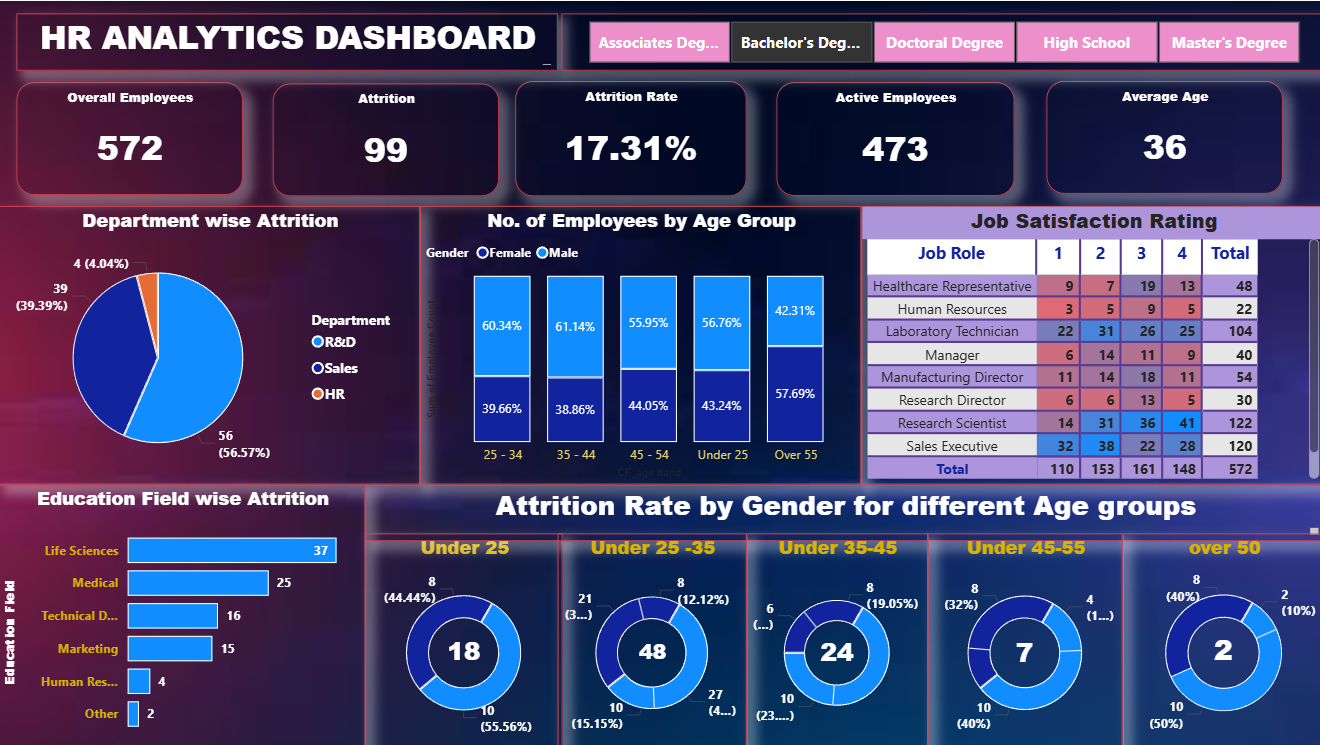

The page's visual inventory and layout, read from the dashboard file:
{"tool":"powerbi","page":{"name":"Page 1","canvas":[1280,720],"ordinal":0},"visuals":[{"type":"card","title":"Overall Employees","fields":{"Values":["Sum(Table_1.Employee Count)"]},"box":[16.9,78.4,218.4,108.6],"z":0},{"type":"card","title":"Attrition","fields":{"Values":["Sum(Table_1.Attrition Count)"]},"box":[264.2,79.6,218.4,108.6],"z":1000},{"type":"card","title":"Attrition Rate ","fields":{"Values":["Table_1.Attrition Rate"]},"box":[498.3,77.2,223.2,111],"z":2000},{"type":"card","title":"Active Employees","fields":{"Values":["Table_1.Active Employees"]},"box":[750.4,78.4,229.2,109.8],"z":3000},{"type":"card","title":"Average Age","fields":{"Values":["Avg(Table_1.Age)"]},"box":[1011,77.2,228,108.6],"z":4000},{"type":"pieChart","title":"Department wise Attrition","fields":{"Category":["Table_1.Department"],"Y":["Sum(Table_1.Attrition Count)"]},"box":[0,197.9,406.6,269],"z":5000},{"type":"hundredPercentStackedColumnChart","title":"No. of Employees by Age Group","fields":{"Category":["Table_1.CF_age band"],"Y":["Sum(Table_1.Employee Count)"],"Series":["Table_1.Gender"]},"box":[406.6,197.9,425.9,269],"z":6000},{"type":"pivotTable","title":"Job Satisfaction Rating","fields":{"Rows":["Table_1.Job Role"],"Columns":["Table_1.Job Satisfaction"],"Values":["Sum(Table_1.Employee Count)"]},"box":[832.4,197.9,447.6,269],"z":7000},{"type":"barChart","title":"Education Field wise Attrition","fields":{"Category":["Table_1.Education Field"],"Y":["Sum(Table_1.Attrition Count)"]},"box":[0,466.9,353.5,253.4],"z":8000},{"type":"donutChart","title":"Under 25","fields":{"Category":["Table_1.Gender"],"Y":["Sum(Table_1.Attrition Count)"],"Series":["Table_1.CF_age band"]},"box":[353.5,513.9,190.6,206.3],"z":9000},{"type":"textbox","title":"Attrition Rate by Gender for different Age groups","box":[353.5,466.9,926.5,54.3],"z":10000},{"type":"donutChart","title":"Under 35-45","fields":{"Category":["Table_1.Gender"],"Y":["Sum(Table_1.Attrition Count)"],"Series":["Table_1.CF_age band"]},"box":[721.5,513.9,174.9,206.3],"z":11000},{"type":"donutChart","title":"Under 25 -35","fields":{"Category":["Table_1.Gender"],"Y":["Sum(Table_1.Attrition Count)"],"Series":["Table_1.CF_age band"]},"box":[539.3,513.9,182.2,206.3],"z":12000},{"type":"donutChart","title":"over 50","fields":{"Category":["Table_1.Gender"],"Y":["Sum(Table_1.Attrition Count)"],"Series":["Table_1.CF_age band"]},"box":[1084.6,513.9,195.4,206.3],"z":13000},{"type":"donutChart","title":"Under 45-55","fields":{"Category":["Table_1.Gender"],"Y":["Sum(Table_1.Attrition Count)"],"Series":["Table_1.CF_age band"]},"box":[896.4,513.9,188.2,206.3],"z":14000},{"type":"card","fields":{"Values":["Sum(Table_1.Attrition Count)"]},"box":[417.4,599.6,62.7,57.9],"z":15000},{"type":"card","fields":{"Values":["Sum(Table_1.Attrition Count)"]},"box":[596,599.6,70,59.1],"z":16000},{"type":"card","fields":{"Values":["Sum(Table_1.Attrition Count)"]},"box":[951.9,593.6,76,72.4],"z":17000},{"type":"card","fields":{"Values":["Sum(Table_1.Attrition Count)"]},"box":[1149.7,593.6,63.9,67.6],"z":18000},{"type":"card","fields":{"Values":["Sum(Table_1.Attrition Count)"]},"box":[764.9,610.5,88.1,37.4],"z":19000},{"type":"textbox","title":"HR ANALYTICS DASHBOARD","box":[16.9,12.1,522.4,55.5],"z":20000},{"type":"slicer","fields":{"Values":["Table_1.Education"]},"box":[542.9,12.1,737.1,55.5],"z":21000}]}

Visuals, with their boxes in screenshot pixels (x1, y1, x2, y2), scaled from the page's 1280x720 canvas onto the 1320x745 screenshot:
"Overall Employees" card: (x1=17, y1=81, x2=243, y2=193)
"Attrition" card: (x1=272, y1=82, x2=498, y2=195)
"Attrition Rate " card: (x1=514, y1=80, x2=744, y2=195)
"Active Employees" card: (x1=774, y1=81, x2=1010, y2=195)
"Average Age" card: (x1=1043, y1=80, x2=1278, y2=192)
"Department wise Attrition" pieChart: (x1=0, y1=205, x2=419, y2=483)
"No. of Employees by Age Group" hundredPercentStackedColumnChart: (x1=419, y1=205, x2=859, y2=483)
"Job Satisfaction Rating" pivotTable: (x1=858, y1=205, x2=1319, y2=483)
"Education Field wise Attrition" barChart: (x1=0, y1=483, x2=365, y2=744)
"Under 25" donutChart: (x1=365, y1=532, x2=561, y2=744)
"Attrition Rate by Gender for different Age groups" textbox: (x1=365, y1=483, x2=1319, y2=539)
"Under 35-45" donutChart: (x1=744, y1=532, x2=924, y2=744)
"Under 25 -35" donutChart: (x1=556, y1=532, x2=744, y2=744)
"over 50" donutChart: (x1=1118, y1=532, x2=1319, y2=744)
"Under 45-55" donutChart: (x1=924, y1=532, x2=1118, y2=744)
card - Sum(Table_1.Attrition Count): (x1=430, y1=620, x2=495, y2=680)
card - Sum(Table_1.Attrition Count): (x1=615, y1=620, x2=687, y2=682)
card - Sum(Table_1.Attrition Count): (x1=982, y1=614, x2=1060, y2=689)
card - Sum(Table_1.Attrition Count): (x1=1186, y1=614, x2=1252, y2=684)
card - Sum(Table_1.Attrition Count): (x1=789, y1=632, x2=880, y2=670)
"HR ANALYTICS DASHBOARD" textbox: (x1=17, y1=13, x2=556, y2=70)
slicer - Table_1.Education: (x1=560, y1=13, x2=1319, y2=70)
